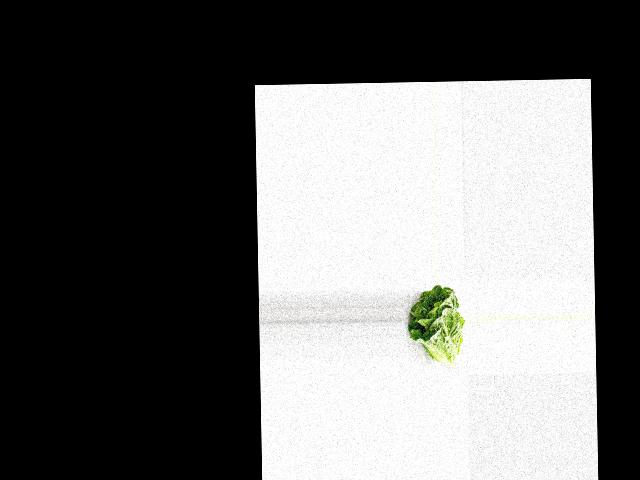lettuce: (406, 285, 466, 368)
